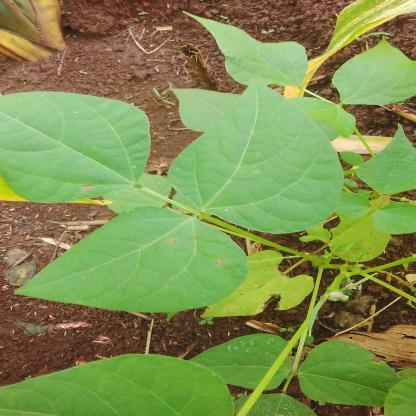Beans_Angular_LeafSpot: (17, 216, 268, 306), (2, 87, 134, 203), (300, 342, 406, 406)
